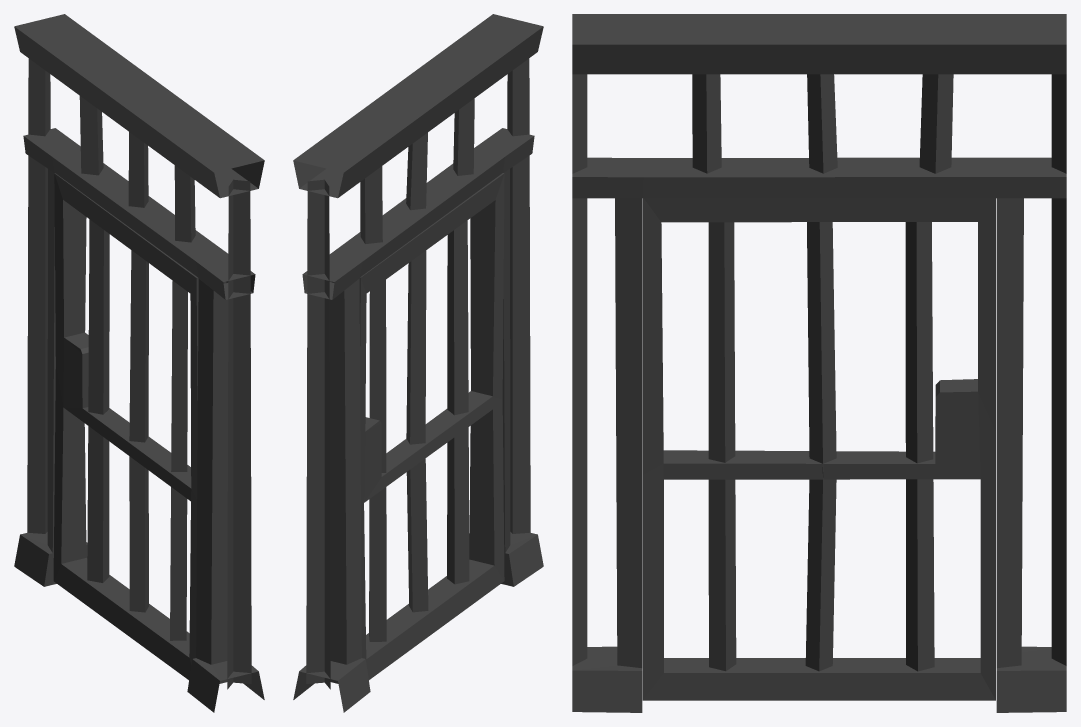
Rendered from Prison_Wall_Door.fbx.
3 renders of one model, left to right at view 1: azimuth 30°, elevation 25°; view 2: azimuth 150°, elevation 25°; view 3: azimuth 270°, elevation 25°, orthographic. The views are drawn at different scales.
Parts seen in each view (by area): view 1: Prison_Wall_Door, Prison_Door; view 2: Prison_Wall_Door, Prison_Door; view 3: Prison_Wall_Door, Prison_Door.
Part boxes in pixels (x1=…): Prison_Wall_Door: x1=14, y1=14, x2=264, y2=712; Prison_Door: x1=53, y1=173, x2=198, y2=679; Prison_Wall_Door: x1=293, y1=14, x2=543, y2=712; Prison_Door: x1=359, y1=173, x2=504, y2=679; Prison_Wall_Door: x1=572, y1=14, x2=1066, y2=712; Prison_Door: x1=642, y1=198, x2=995, y2=700.
Bounding box in the file's own units: 7.54 × 74.5 × 50.
